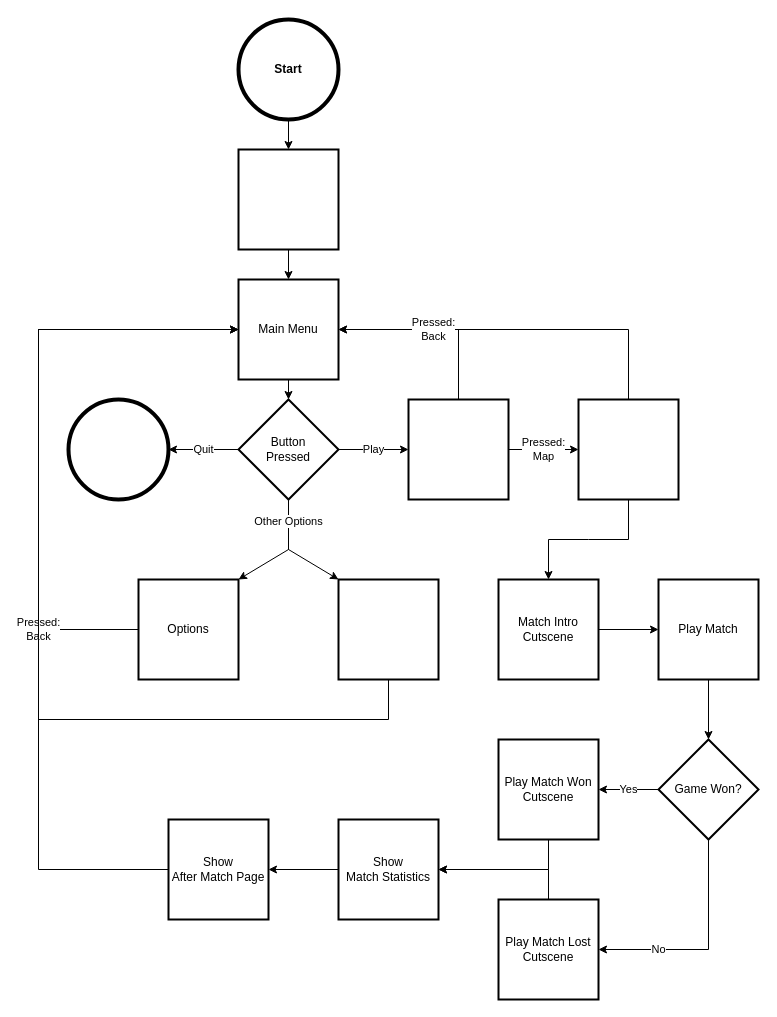
Image size: 777x1017. Some labels were removed from this diagram. The centre of each missing label's shape, as x and y in pixels:
"Credits" goes at (388,629).
"End" goes at (118,449).
"Game Intro Sequence" goes at (288,199).
"Map Select" goes at (458,449).
"Mini Champ Select" goes at (628,449).
